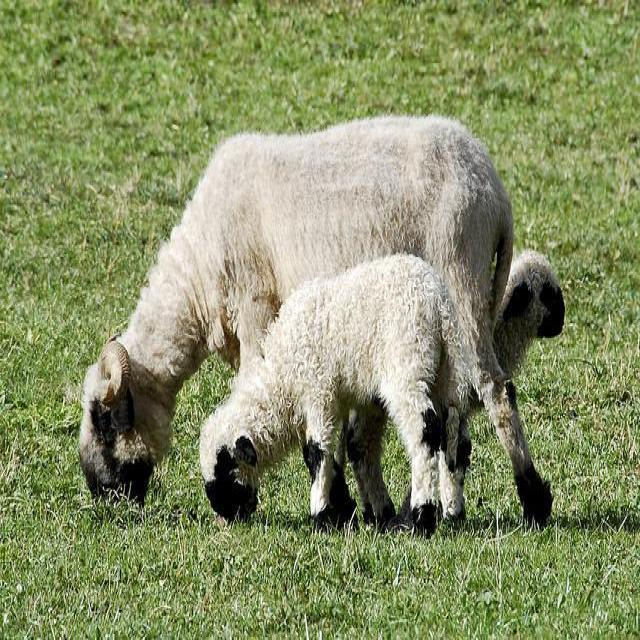Sheep: (78, 111, 554, 527), (199, 255, 475, 538), (497, 249, 566, 386)
